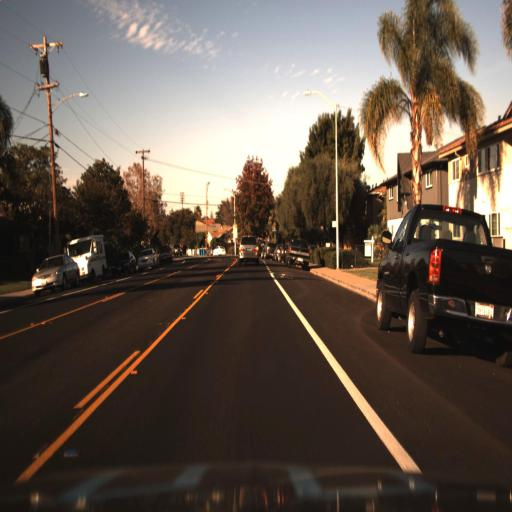car: (374, 204, 512, 354), (28, 253, 77, 301), (76, 235, 110, 284), (108, 247, 137, 281), (236, 230, 259, 267), (137, 244, 164, 273), (284, 241, 310, 271), (209, 242, 227, 260), (158, 245, 172, 268)
